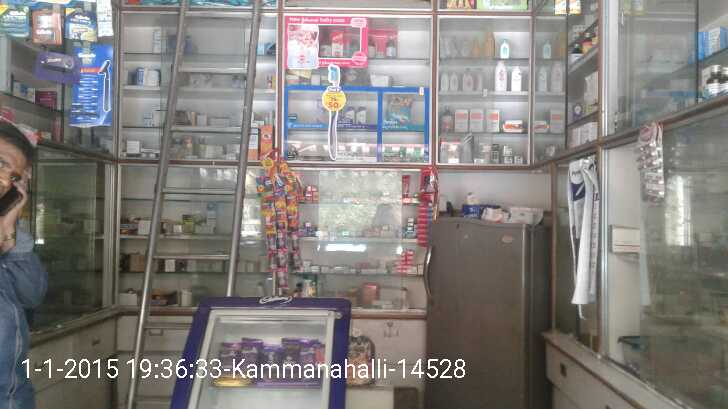vicks: (288, 113, 298, 122)
